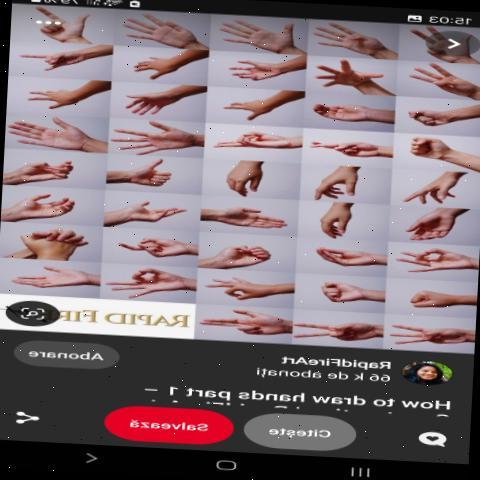Hands: (199, 196, 301, 236), (4, 180, 85, 228), (96, 192, 188, 232), (116, 82, 204, 120), (8, 114, 102, 149), (300, 15, 387, 52), (121, 9, 205, 47), (227, 47, 301, 90), (108, 266, 194, 302), (108, 122, 207, 152), (0, 263, 99, 293), (210, 19, 298, 52), (402, 164, 468, 206), (302, 164, 379, 199), (306, 238, 388, 270)
